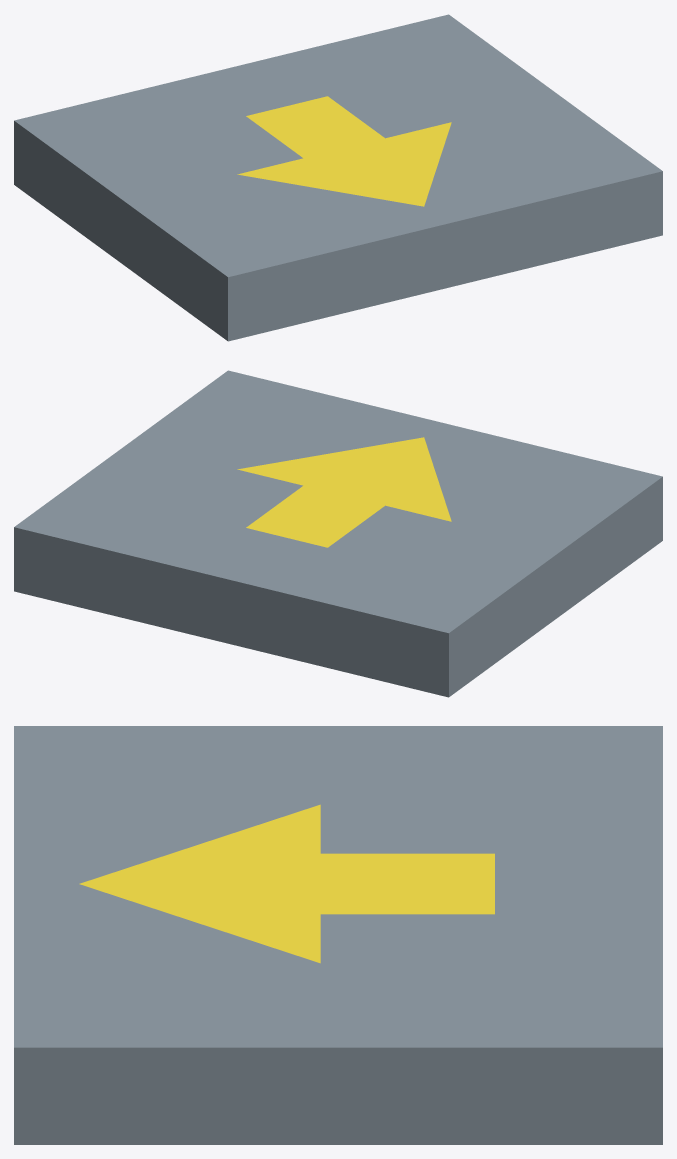
The model's file is climb-step.glb.
The picture shows the model from 3 angles, top to bottom: view 1: azimuth 30°, elevation 25°; view 2: azimuth 150°, elevation 25°; view 3: azimuth 270°, elevation 25°; orthographic projection. The views are drawn at different scales.
Parts seen in each view (by area): view 1: Launch step, Jump arrow; view 2: Launch step, Jump arrow; view 3: Launch step, Jump arrow.
Part boxes in pixels (x1=…): Launch step: x1=14, y1=14, x2=662, y2=341; Jump arrow: x1=237, y1=96, x2=451, y2=206; Launch step: x1=14, y1=370, x2=662, y2=697; Jump arrow: x1=237, y1=437, x2=451, y2=547; Launch step: x1=14, y1=726, x2=662, y2=1144; Jump arrow: x1=79, y1=804, x2=494, y2=963.
Bounding box in the file's own units: 1.7 × 0.247 × 1.45.
